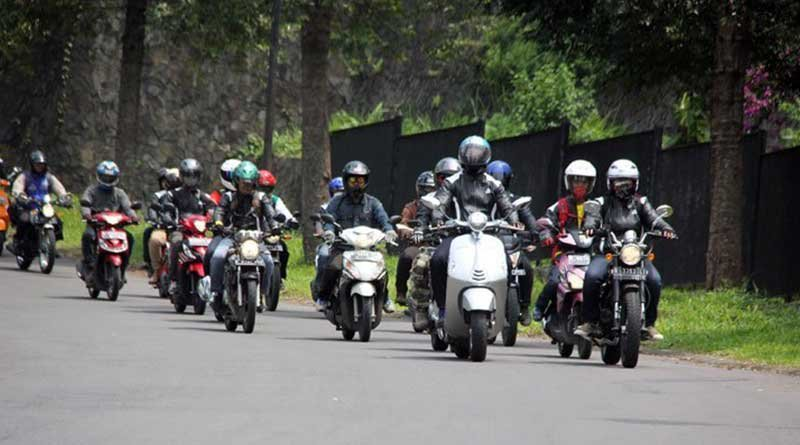motor: (435, 221, 509, 363), (597, 238, 662, 363), (325, 226, 396, 332), (216, 227, 269, 327), (82, 206, 132, 298), (170, 214, 209, 302)
